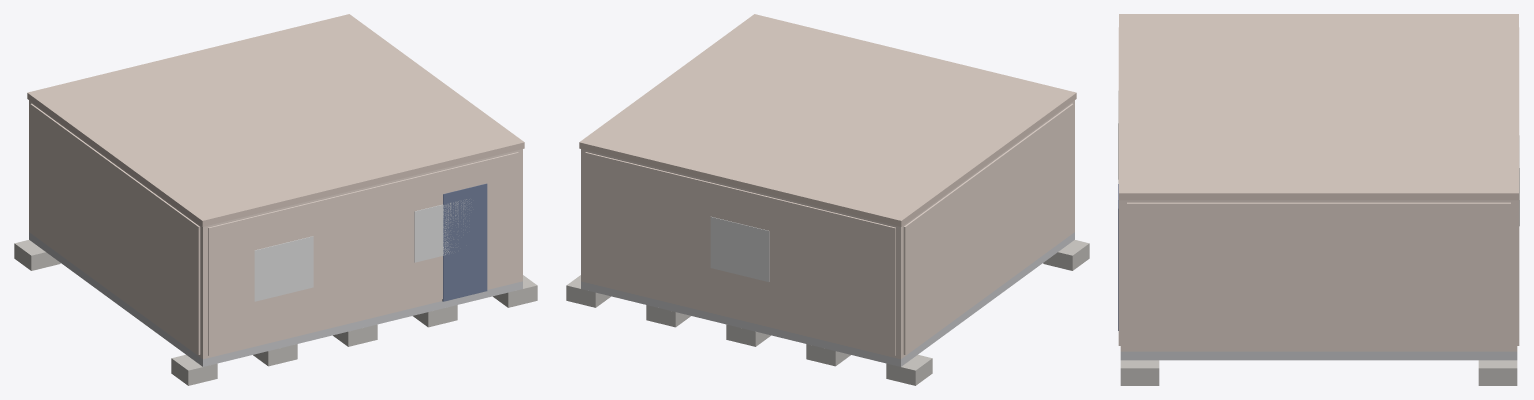
Rendered from Studio-20-Base-Mauve-LOD1.glb.
3 views of the same model, side by side, from view 1: azimuth 30°, elevation 25°; view 2: azimuth 150°, elevation 25°; view 3: azimuth 270°, elevation 25° (orthographic). The views are drawn at different scales.
Visible parts, largest first — view 1: RoofMain, ExteriorPanelsStandard, WindowsStandard, EntryDoor, FoundationBlocks, BaseFrame, ExteriorShell; view 2: ExteriorPanelsStandard, RoofMain, FoundationBlocks, BaseFrame, ExteriorShell, WindowsStandard; view 3: RoofMain, ExteriorPanelsStandard, ExteriorShell, BaseFrame, FoundationBlocks.
Boxes of the visible parts, x1,y1,x2,y2 form: RoofMain: [27, 14, 524, 226]; ExteriorPanelsStandard: [30, 103, 518, 355]; WindowsStandard: [254, 199, 471, 301]; EntryDoor: [442, 183, 487, 301]; FoundationBlocks: [14, 240, 537, 385]; BaseFrame: [29, 232, 522, 366]; ExteriorShell: [29, 100, 522, 359]; ExteriorPanelsStandard: [585, 103, 1073, 355]; RoofMain: [579, 14, 1076, 226]; FoundationBlocks: [566, 240, 1089, 385]; BaseFrame: [581, 232, 1074, 366]; ExteriorShell: [581, 100, 1074, 359]; WindowsStandard: [710, 216, 769, 281]; RoofMain: [1119, 14, 1518, 200]; ExteriorPanelsStandard: [1118, 27, 1519, 349]; ExteriorShell: [1120, 200, 1517, 351]; BaseFrame: [1120, 351, 1517, 360]; FoundationBlocks: [1120, 360, 1517, 385].
Bounding box in the file's own units: 7.14 × 3.17 × 6.24.
